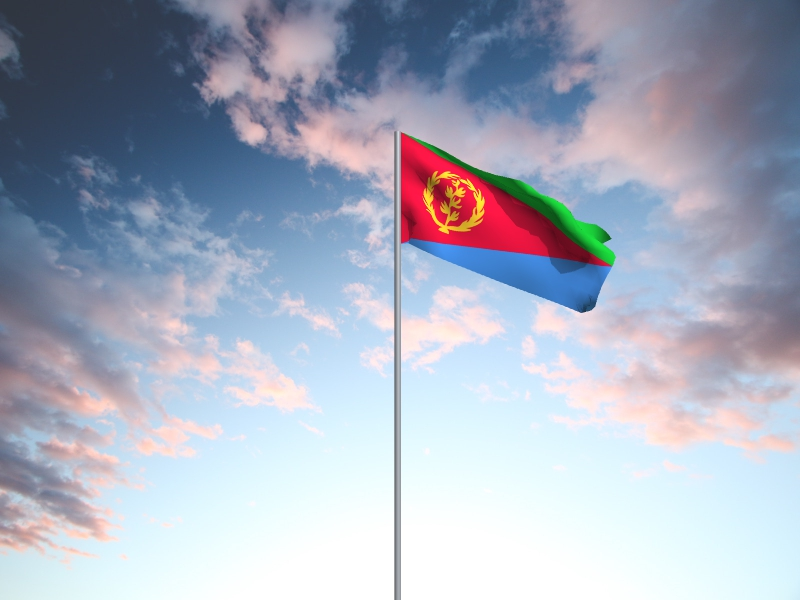er: (401, 133, 618, 315)
